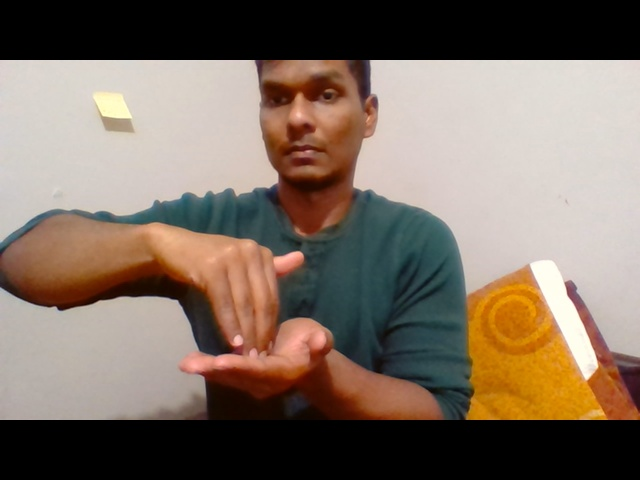ExcuseMe: (145, 221, 338, 403)
